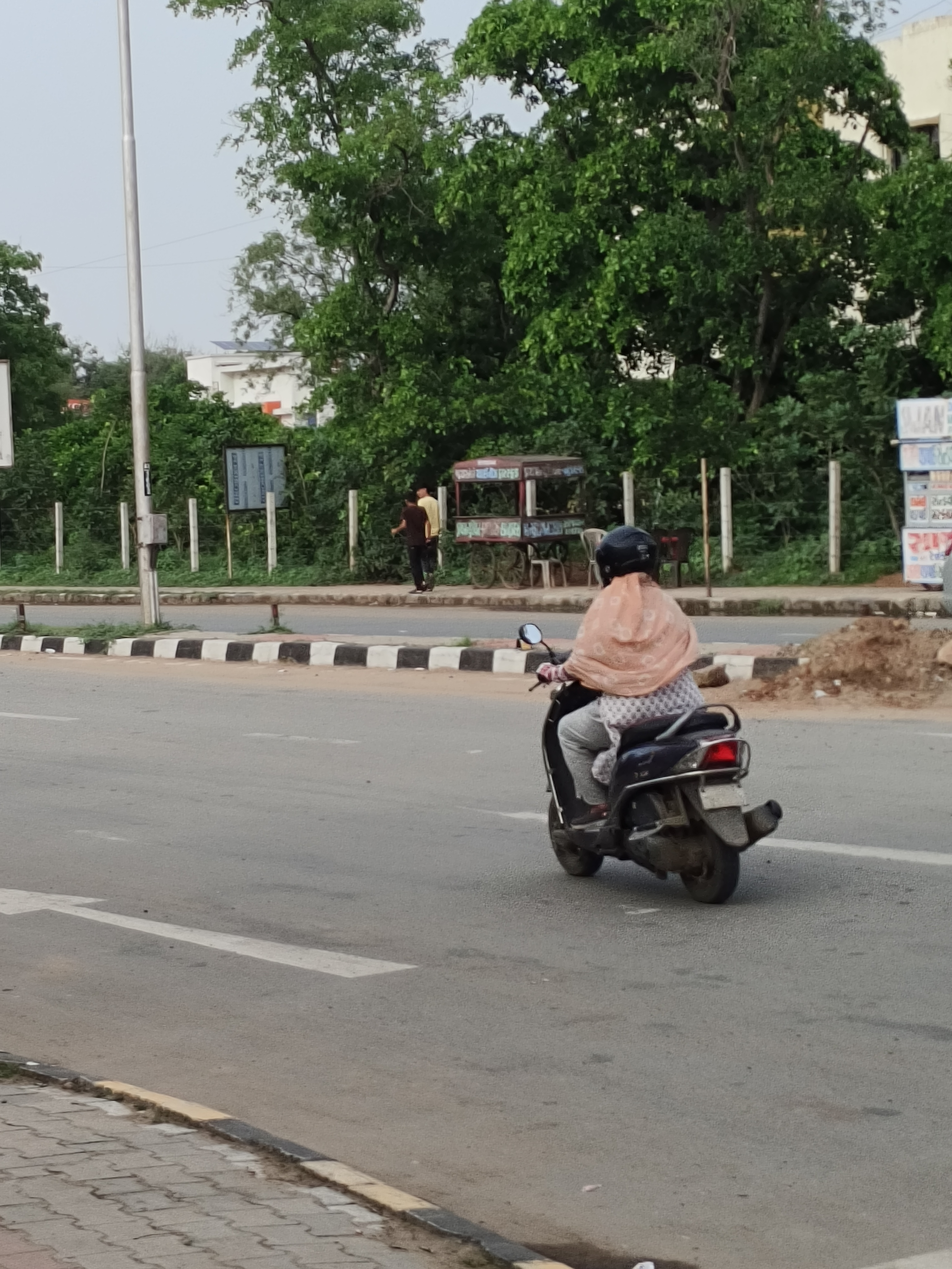BikeWithRider: (507, 514, 792, 913)
Helmet: (587, 518, 670, 594)
